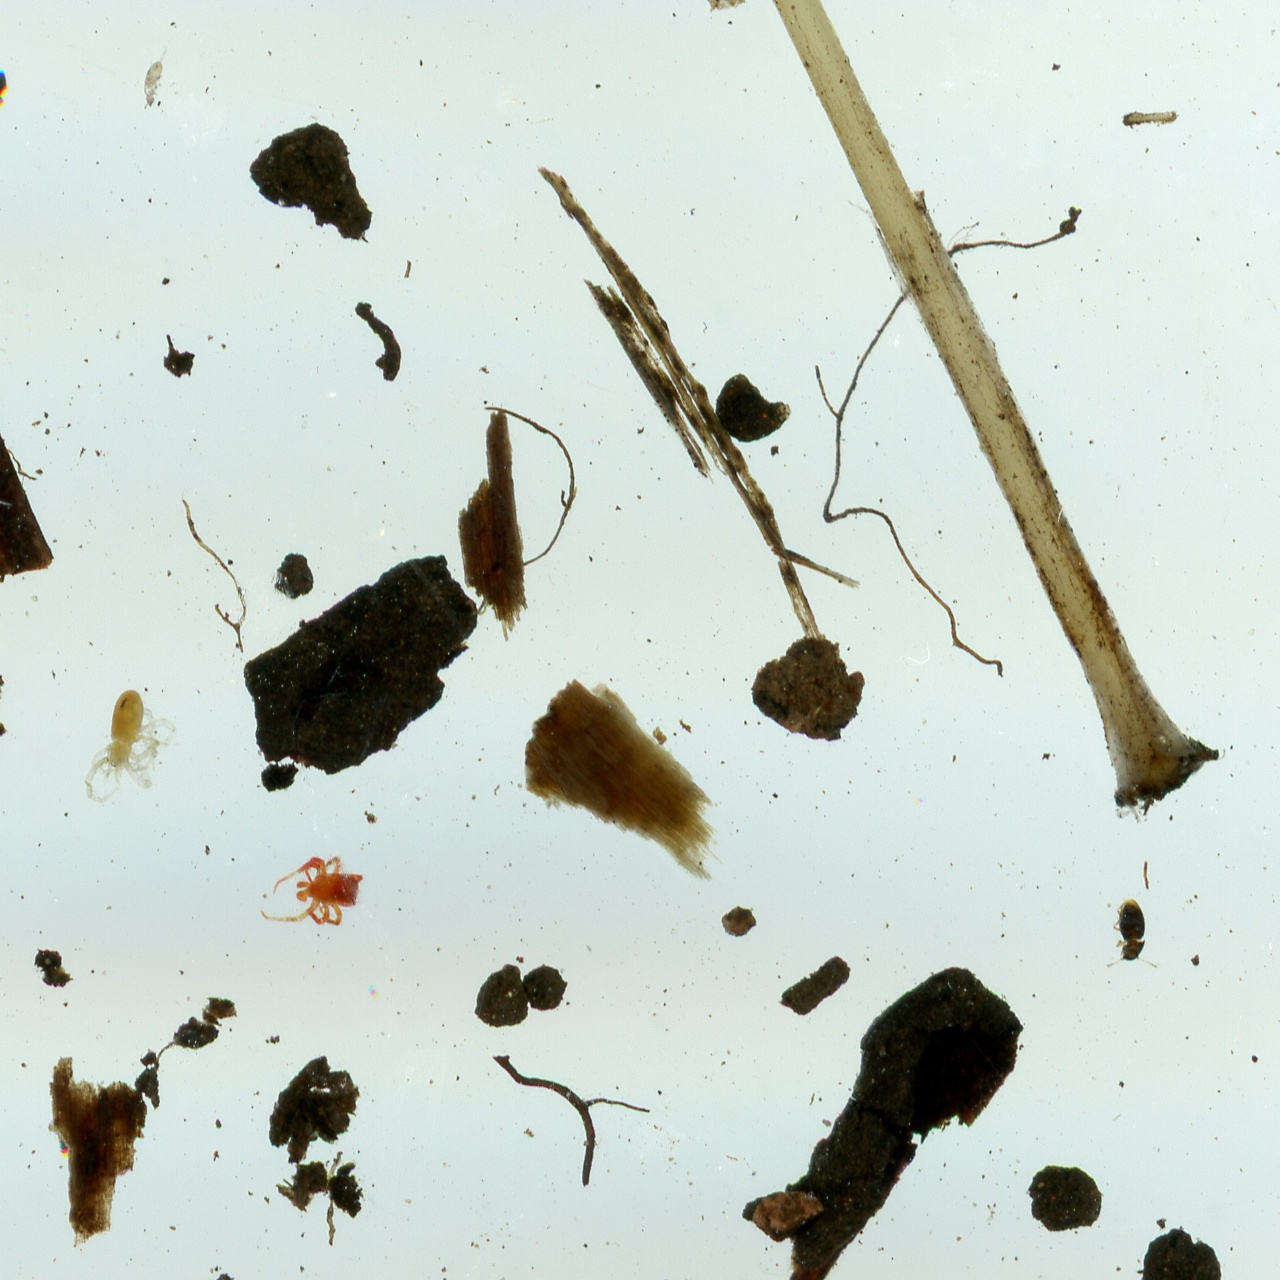arthropod: (79, 686, 183, 810), (257, 851, 370, 930), (1104, 896, 1164, 975), (0, 47, 23, 158), (141, 40, 172, 115)
